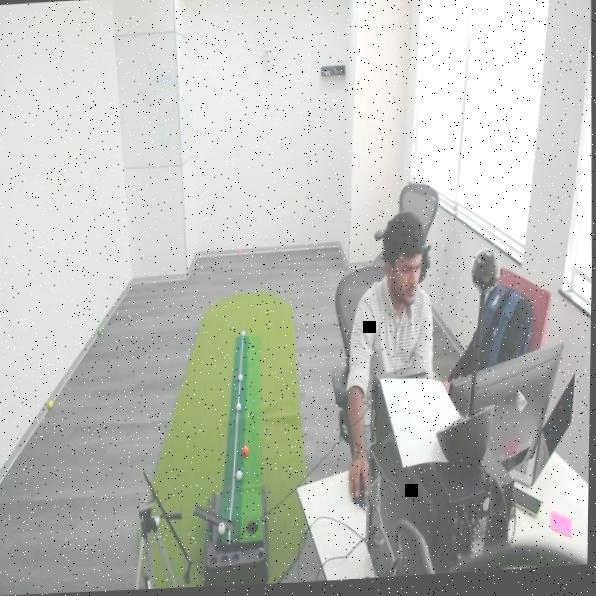GolfBall: (151, 513, 167, 533), (216, 522, 230, 541), (235, 467, 247, 486), (242, 444, 254, 462), (238, 327, 249, 343), (47, 397, 58, 413), (238, 371, 246, 391), (236, 400, 245, 416), (96, 326, 104, 342)
